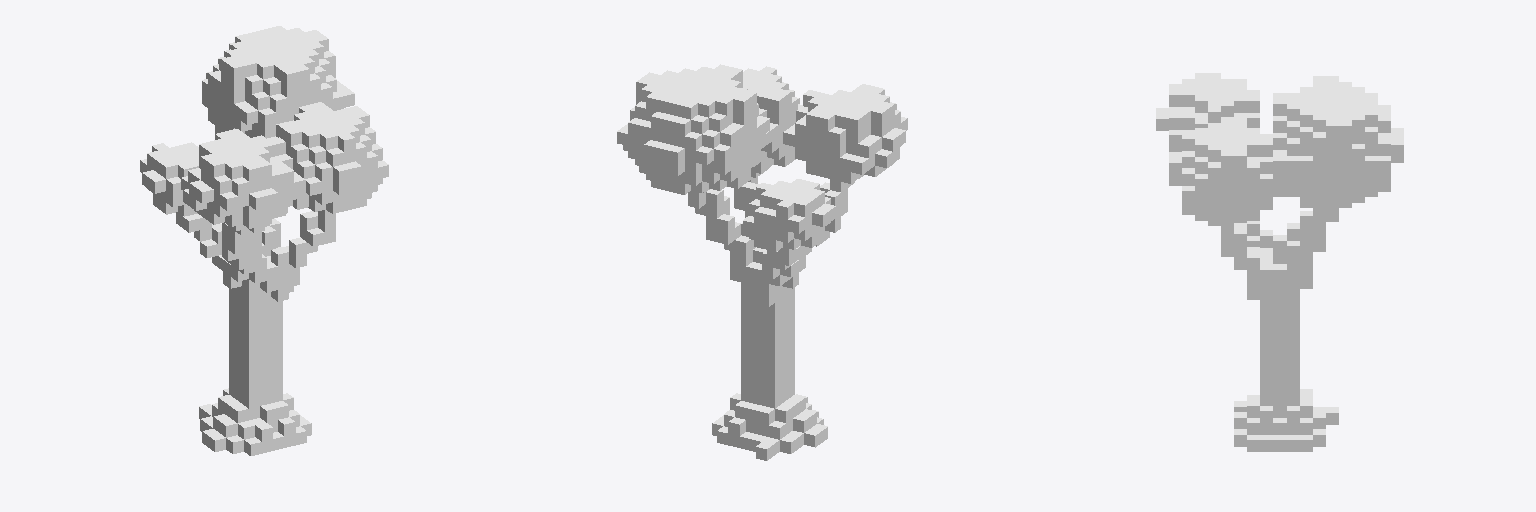
File: TreeStanding1.obj
3 renders of one model, left to right at view 1: azimuth 30°, elevation 25°; view 2: azimuth 150°, elevation 25°; view 3: azimuth 270°, elevation 25°, orthographic.
Parts seen in each view (by area): view 1: object 1; view 2: object 1; view 3: object 1.
Part boxes in pixels (bbox=[...]): object 1: bbox=[140, 26, 388, 455]; object 1: bbox=[617, 64, 907, 460]; object 1: bbox=[1156, 73, 1403, 451].
Bounding box in the file's own units: 1.7 × 3 × 1.9.